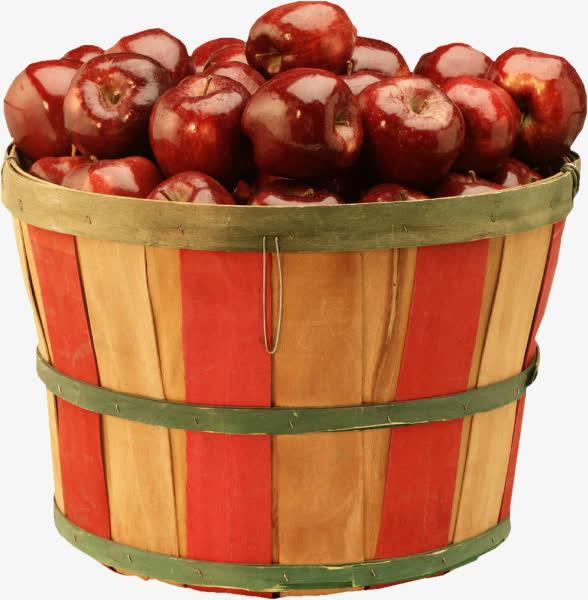apple: (242, 67, 361, 175), (491, 47, 586, 165), (63, 53, 167, 154), (360, 76, 464, 177), (145, 73, 249, 174), (240, 3, 356, 82), (438, 77, 519, 173)
